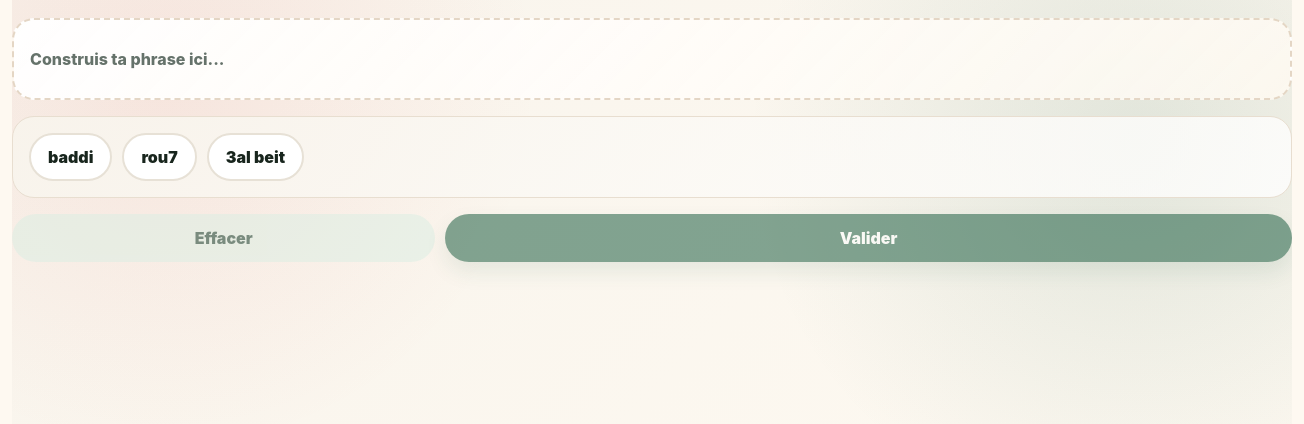
Scenario: WordBankSentenceExerciseComponent › removes a selected word when clicking it
Click the button with class "word-chip" showing "baddi": {"x": 71, "y": 157} [29,133,112,181]
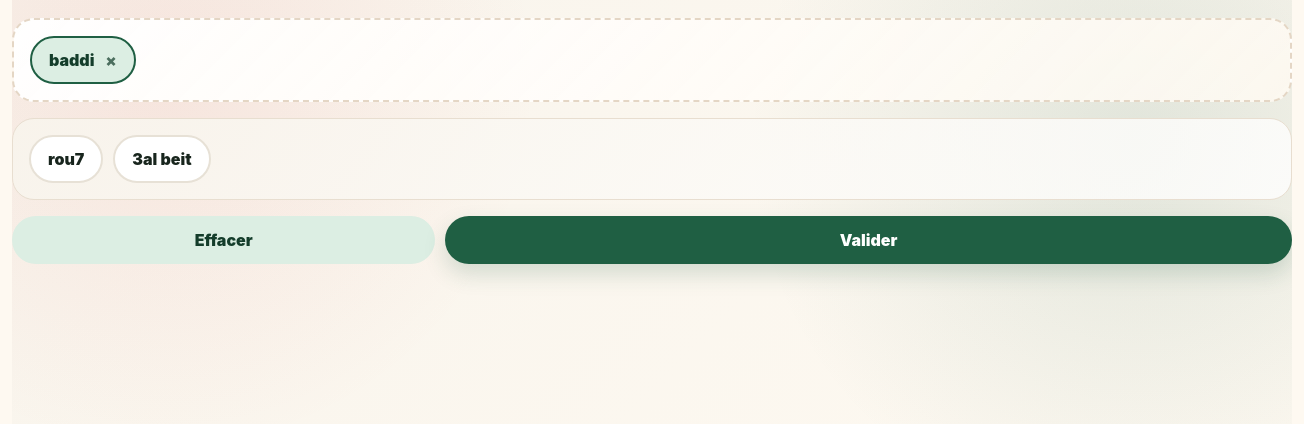
Click the button with class "selected-word": {"x": 83, "y": 60} [30,36,136,84]
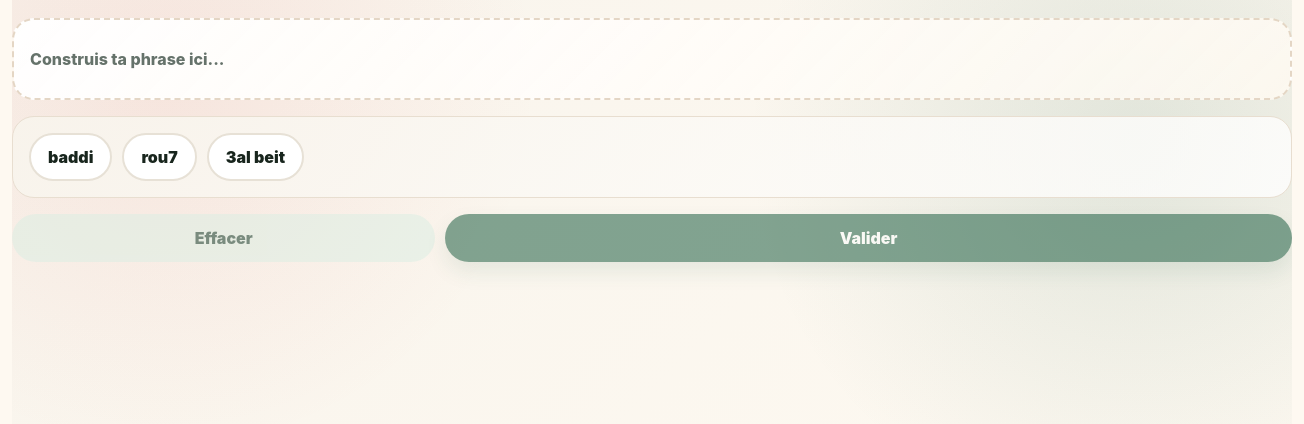
Result: the text "Construis ta phrase ici..." is shown at [30,49,224,69]
